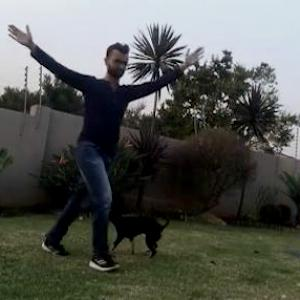takeoff: (17, 25, 170, 241)
